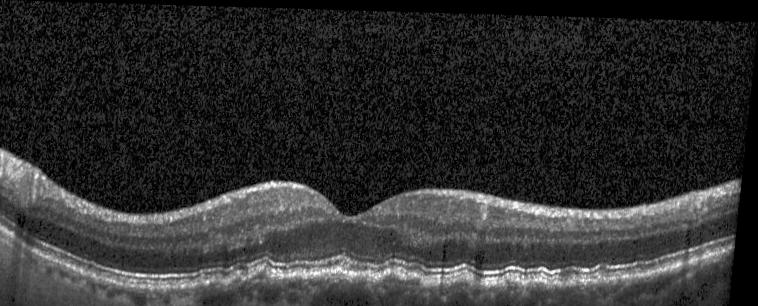retinal_drusen: (388, 269, 426, 282), (256, 264, 274, 278), (212, 279, 231, 288), (571, 272, 584, 285), (457, 275, 475, 284), (531, 276, 551, 284), (335, 267, 352, 276), (509, 275, 526, 284), (359, 270, 374, 279), (558, 276, 570, 285), (297, 270, 309, 278), (238, 274, 248, 281), (603, 272, 610, 280)
